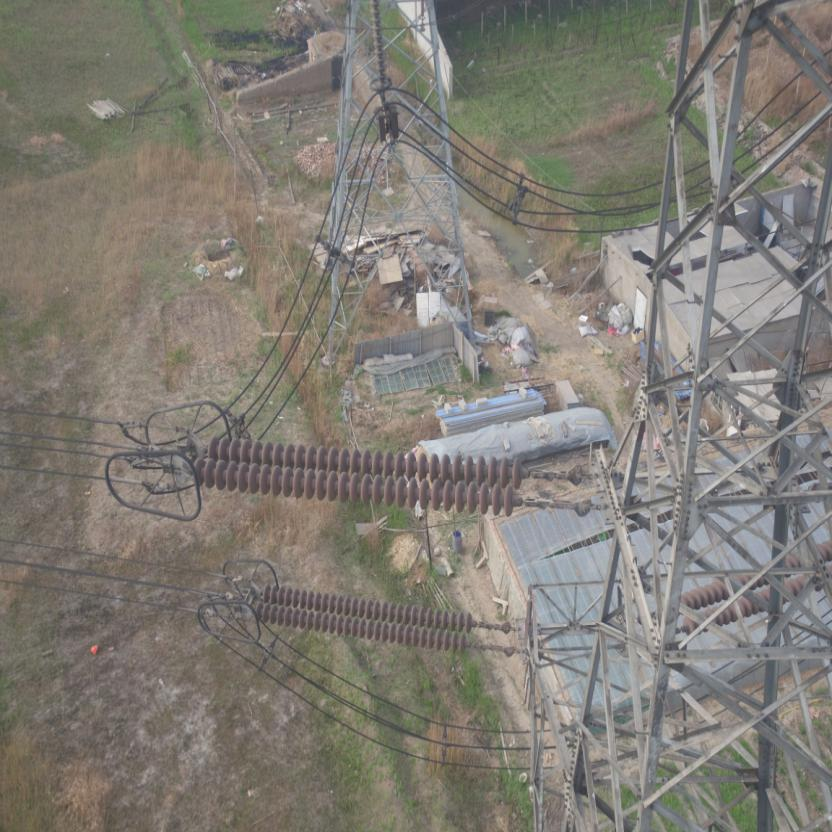insulator: (180, 430, 556, 518), (247, 580, 492, 655)
